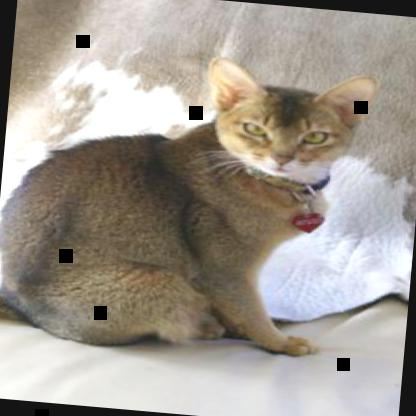cat: (0, 39, 382, 372)
